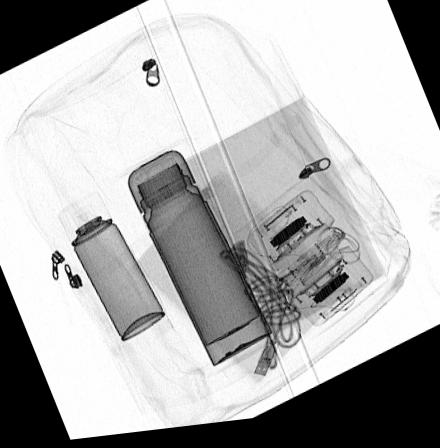Sprayer: (56, 191, 166, 342)
